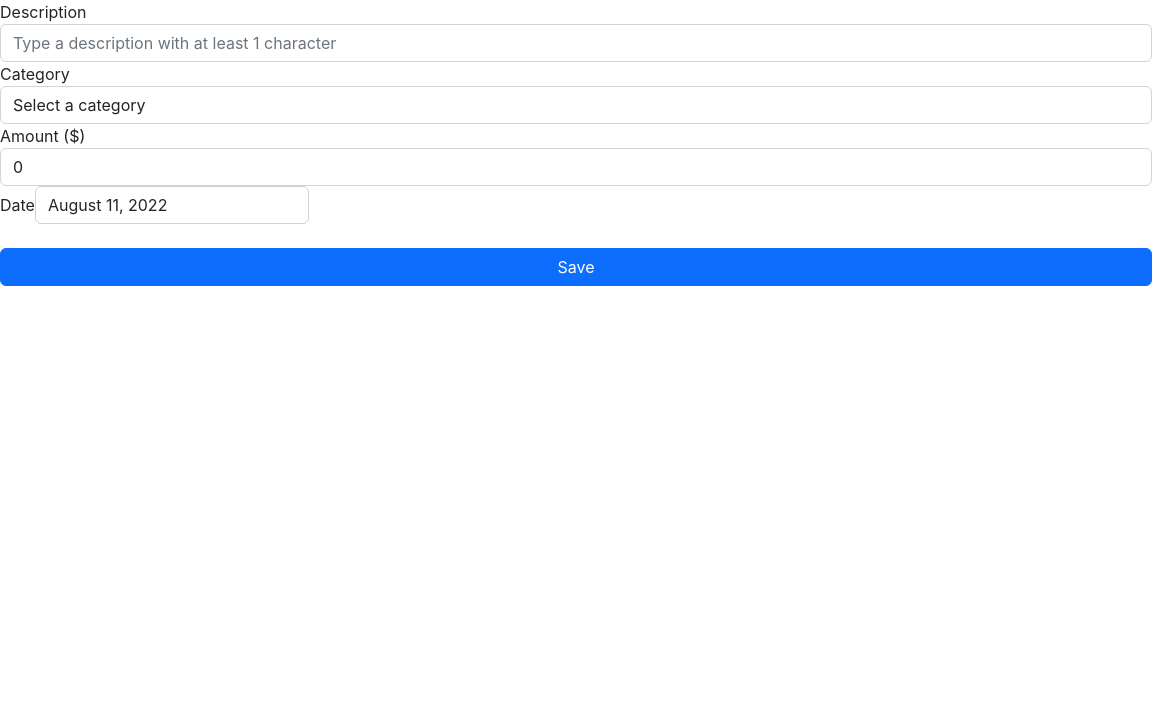
Test: AddExpenseForm tests › should save the expense clicking on Save button
// click on Save button
Click the button "Save" at (576,267), box [0,248,1151,286]
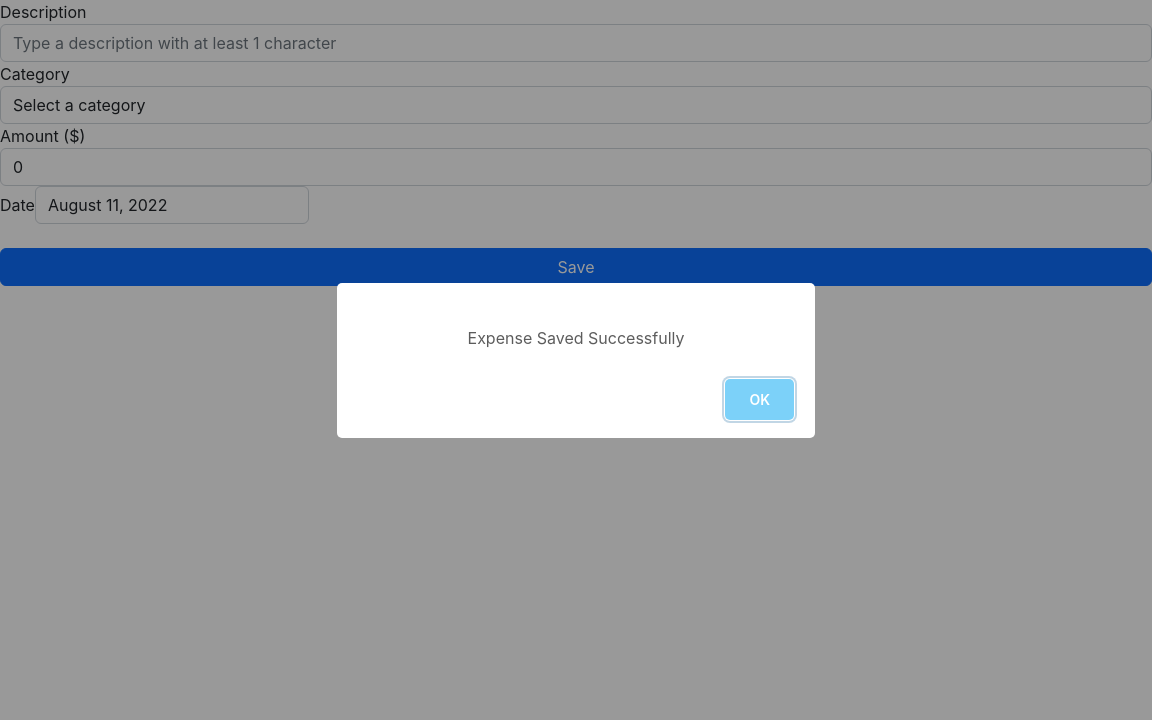
Check: the text "Expense Saved Successfully" is shown, box [458,328,694,348]
